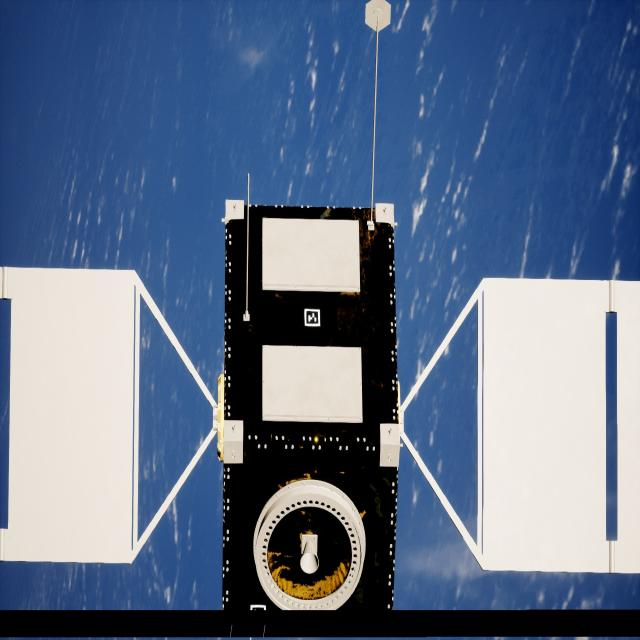satellite: (220, 203, 640, 615), (0, 267, 215, 567)
